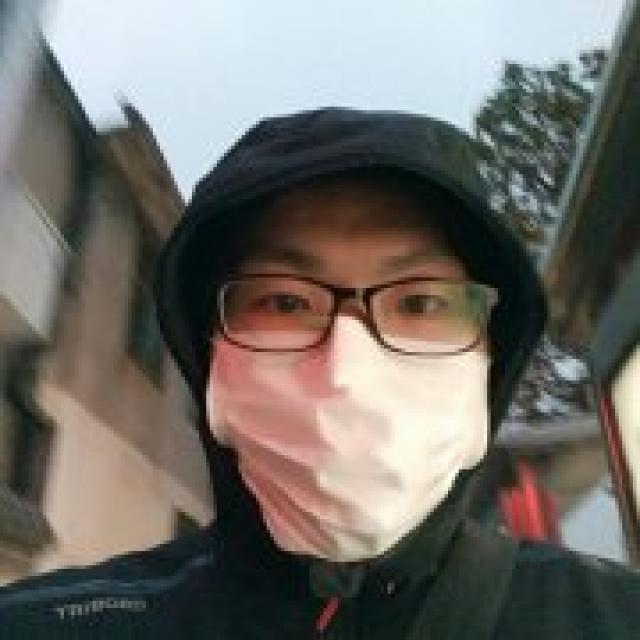mask: (201, 170, 489, 554)
